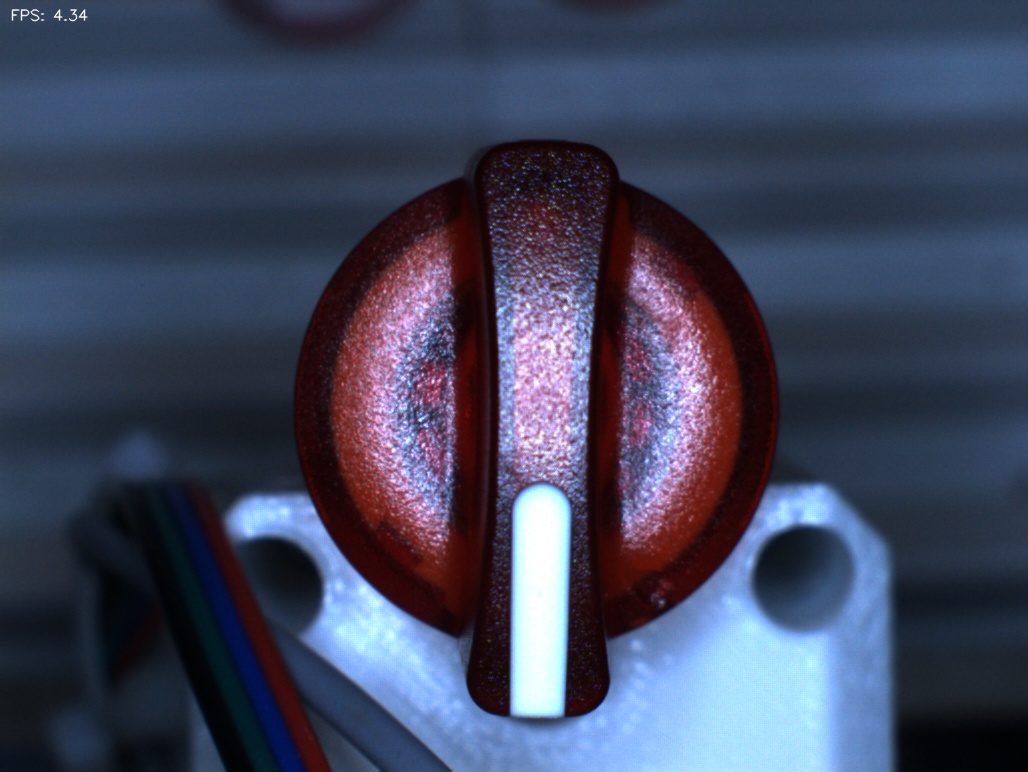Choc: (627, 561, 695, 629)
